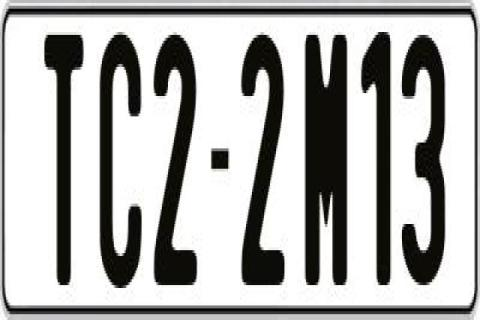0: (402, 32, 452, 300), (242, 35, 288, 303), (152, 29, 196, 279), (360, 23, 394, 291)
C: (98, 32, 142, 291)
M: (302, 32, 350, 282)
T: (41, 29, 81, 282)
